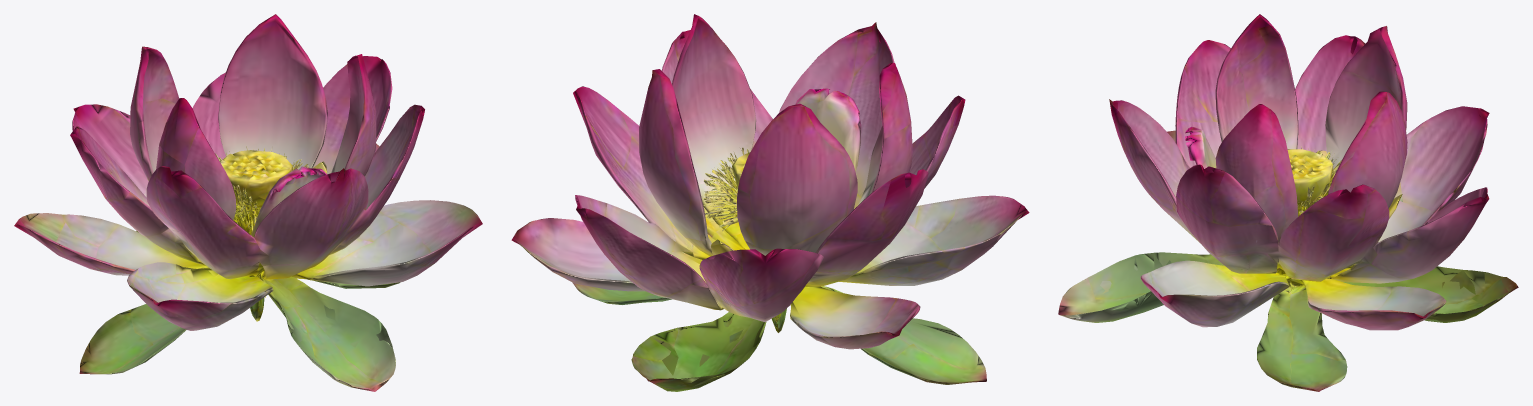
3 renders of one model, left to right at view 1: azimuth 30°, elevation 25°; view 2: azimuth 150°, elevation 25°; view 3: azimuth 270°, elevation 25°, orthographic. The views are drawn at different scales.
Visible parts, largest first — view 1: mesh_node; view 2: mesh_node; view 3: mesh_node.
Part boxes in pixels (bbox=[...]): mesh_node: bbox=[14, 14, 482, 391]; mesh_node: bbox=[511, 14, 1029, 391]; mesh_node: bbox=[1058, 14, 1518, 391].
Bounding box in the file's own units: 1.75 × 1.23 × 1.9.
1 material, 1 textured.
